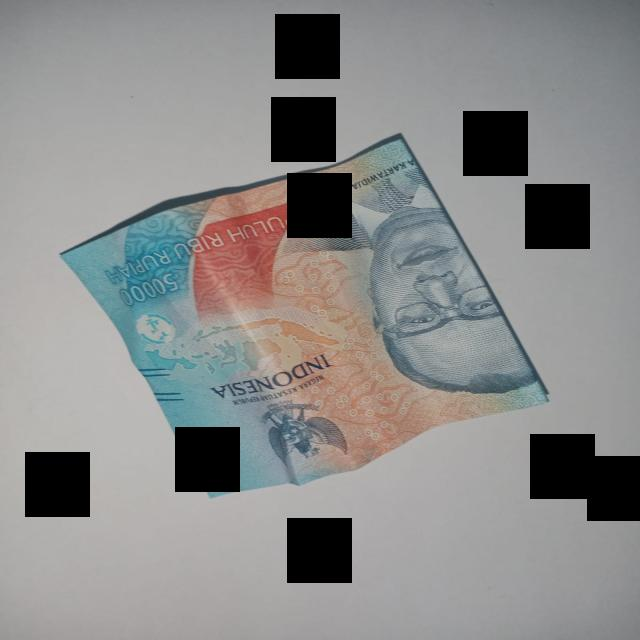lima puluh ribu rupiah: (62, 135, 547, 496)
